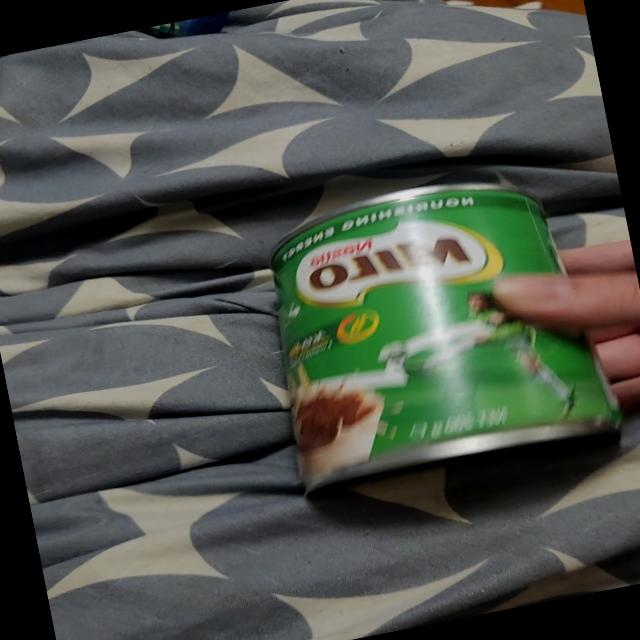nestle_milo_tin: (268, 183, 625, 494)
